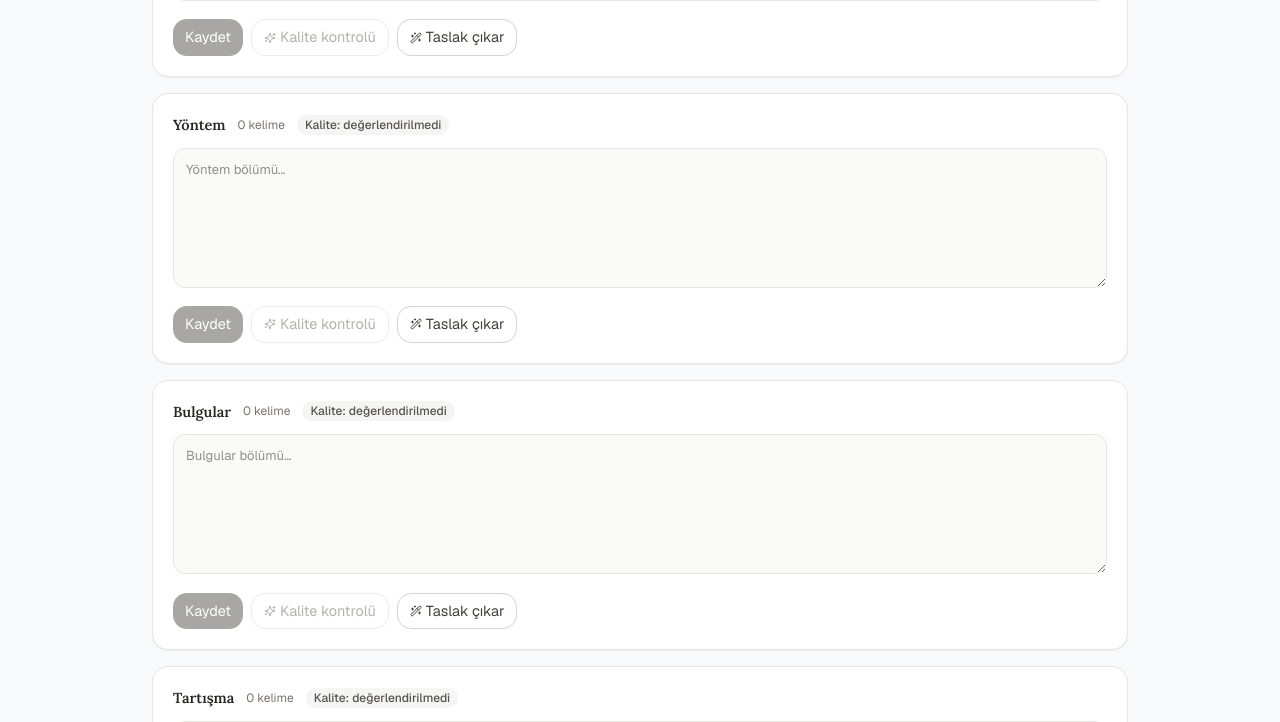
Test: ThesisContentPage › Taslak cikar → POST /auto-draft → preview modal + Editore yapistir textarea'yi gunceller
The width and height of the screenshot is (1280, 722).
(page scrolled)
expect the heading "Yöntem" is shown: met, box left=173, top=114, right=226, bottom=136
Click the 2nd button "Taslak çıkar" at (457, 324), box left=397, top=306, right=518, bottom=343
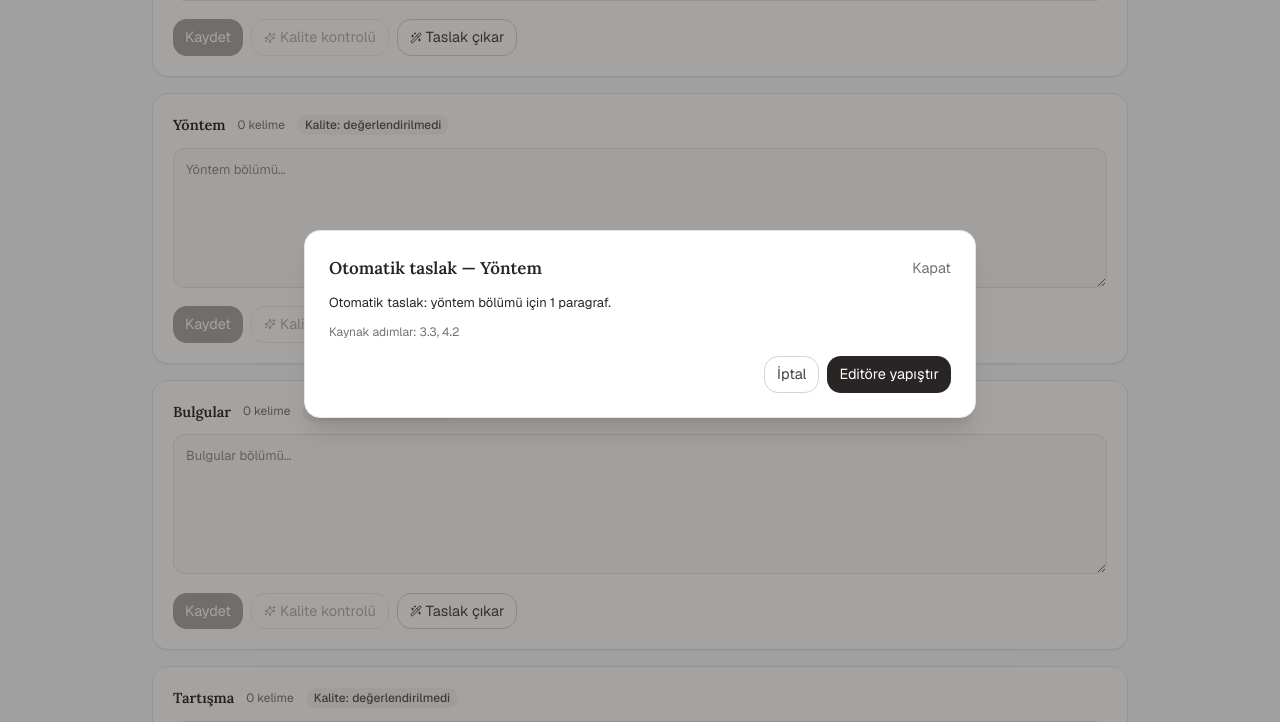
expect the heading "Otomatik taslak — Yöntem" is shown: met, box left=329, top=255, right=542, bottom=282
expect the text "Otomatik taslak: yöntem bölümü için 1 paragraf." is shown: met, box left=329, top=294, right=611, bottom=311
expect the text "Kaynak adımlar: 3.3, 4.2" is shown: met, box left=329, top=324, right=459, bottom=340
Click the button "Editöre yapıştır" at (889, 375), box left=827, top=356, right=951, bottom=393
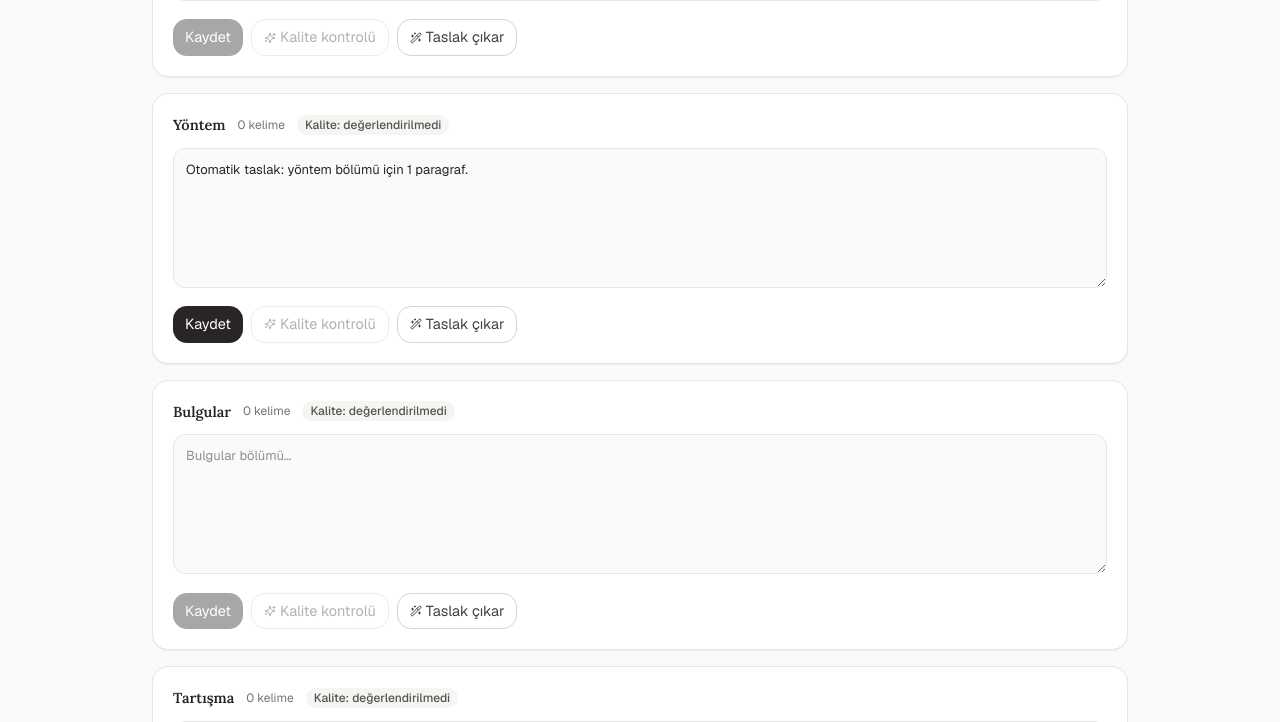
expect the text box named "Yöntem içerik" holds "Otomatik taslak: yöntem bölümü için 1 paragraf.": met, box left=173, top=148, right=1107, bottom=288
